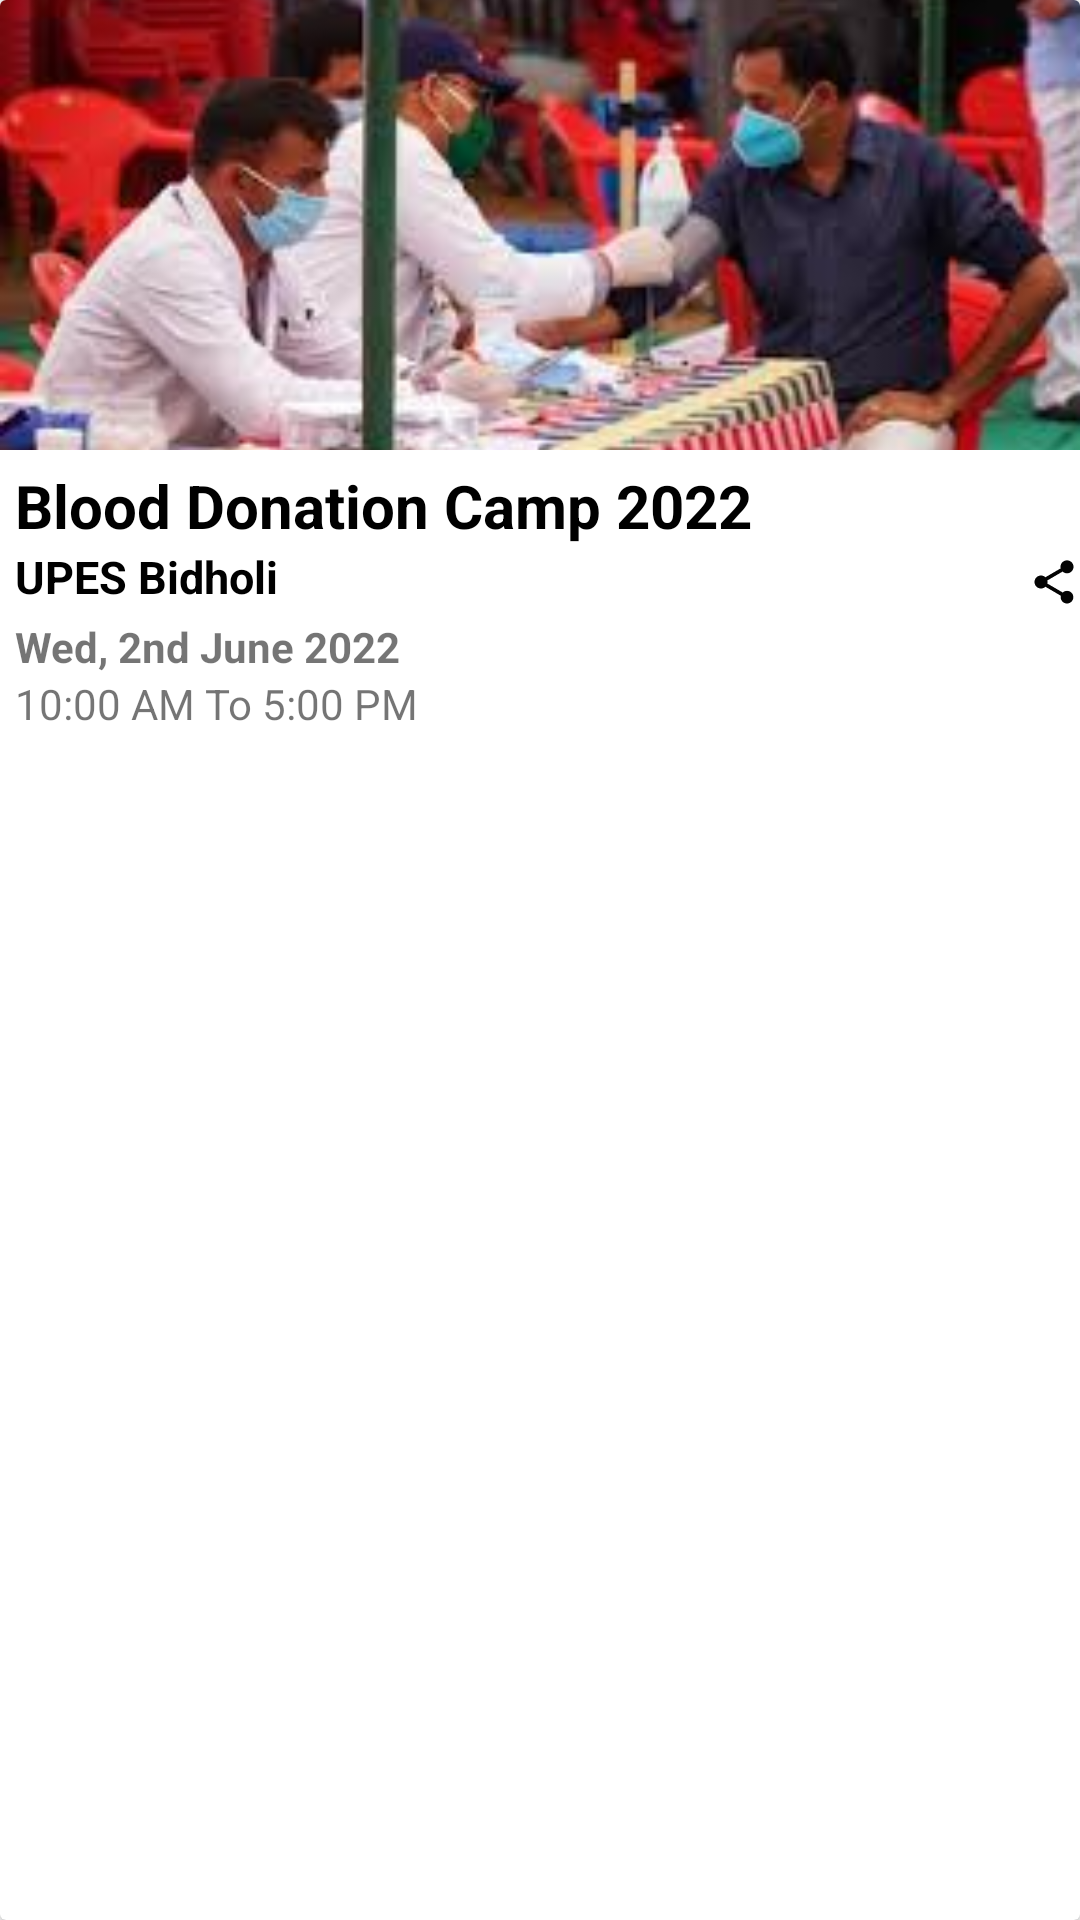

Named icons in this screenshot (1080w x 1920h) and their bounding boxes, region(x1, y1, x2, y2):
share: region(1034, 560, 1074, 604)
